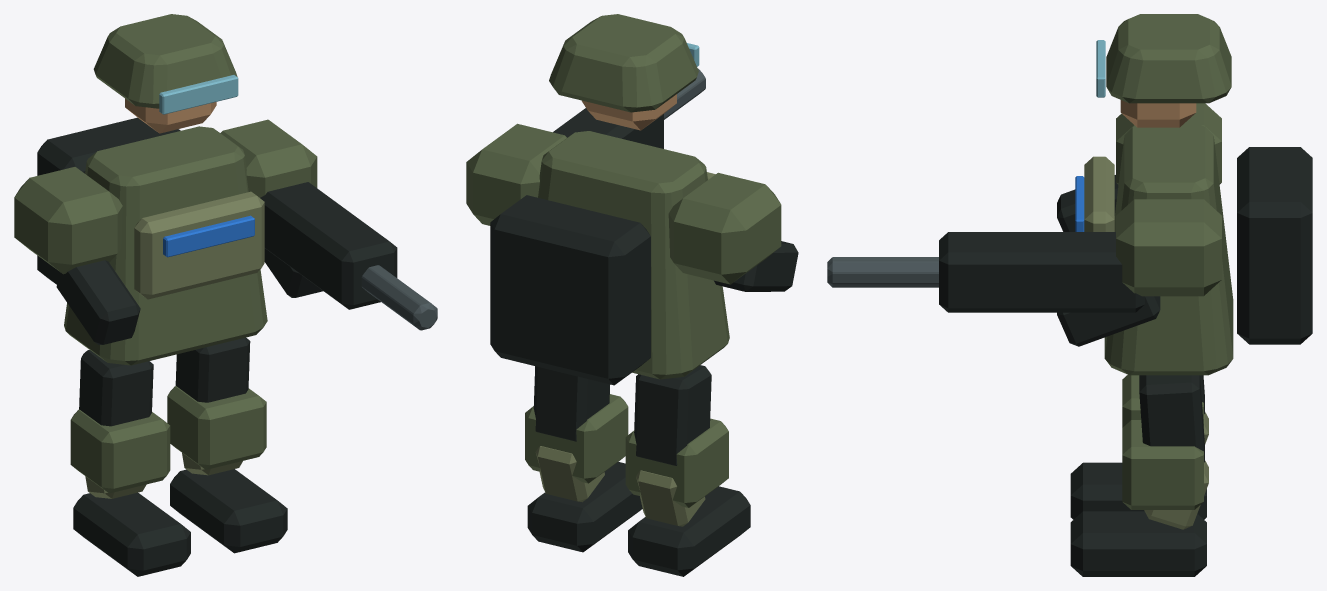
File: h_rifle.glb
3 renders of one model, left to right at view 1: azimuth 30°, elevation 25°; view 2: azimuth 150°, elevation 25°; view 3: azimuth 270°, elevation 25°, orthographic. The views are drawn at different scales.
Visible parts, largest first — view 1: Body armor, Leg armor, Leg armor.001; view 2: Body armor, Leg armor, Leg armor.001; view 3: Body armor, Leg armor.001, Leg armor.
Part boxes in pixels (x1,y1,x2,y2): Body armor: [14, 14, 437, 365]; Leg armor: [70, 350, 190, 576]; Leg armor.001: [167, 337, 287, 553]; Body armor: [466, 14, 798, 385]; Leg armor: [625, 365, 750, 576]; Leg armor.001: [525, 366, 642, 552]; Body armor: [827, 14, 1312, 375]; Leg armor.001: [1070, 375, 1208, 576]; Leg armor: [1070, 375, 1208, 519].
Bounding box in the file's own units: 1.06 × 1.86 × 1.6.
